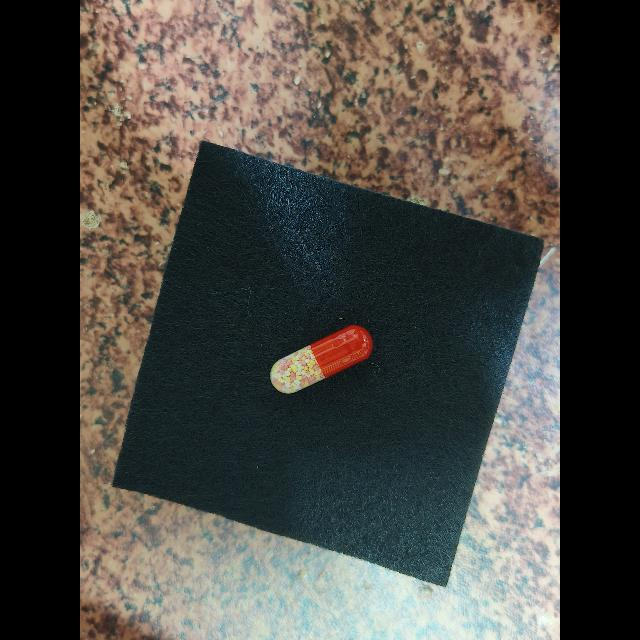Intact Capsule: (270, 325, 373, 393)
